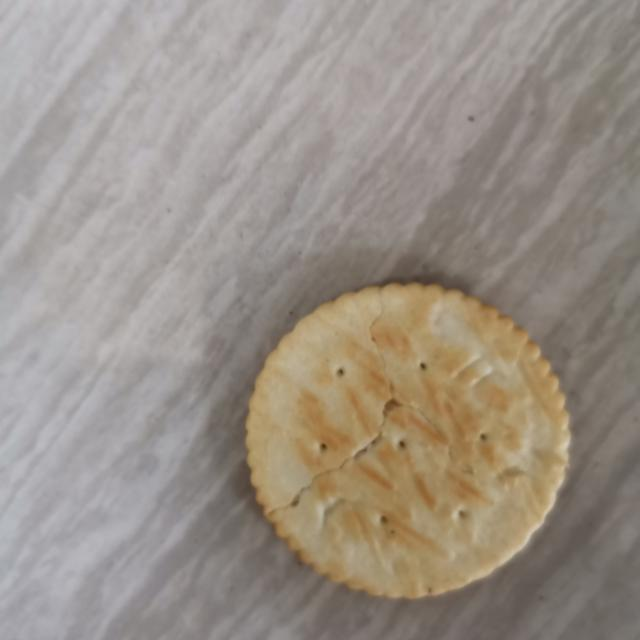Fracture: (261, 276, 562, 526)
